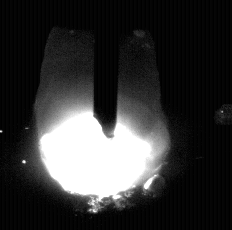arame: (95, 0, 118, 138)
poca: (37, 0, 171, 230)
